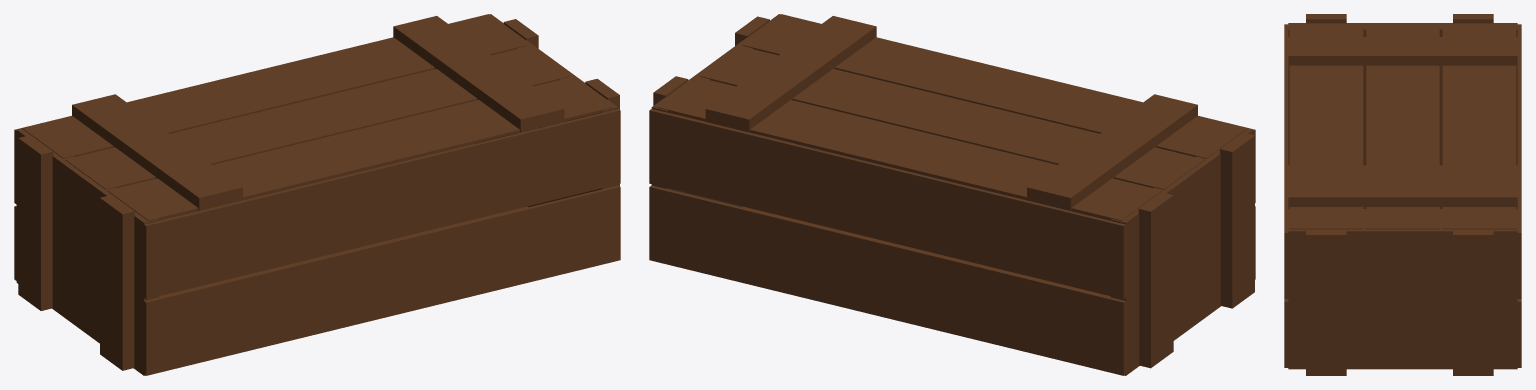
The model's file is Crate3.fbx.
The picture shows the model from 3 angles, left to right: view 1: azimuth 30°, elevation 25°; view 2: azimuth 150°, elevation 25°; view 3: azimuth 270°, elevation 25°; orthographic projection. The views are drawn at different scales.
Visible parts, largest first — view 1: Crate 3; view 2: Crate 3; view 3: Crate 3.
Boxes of the visible parts, left/top/right/bottom form: Crate 3: left=14, top=14, right=620, bottom=375; Crate 3: left=649, top=14, right=1255, bottom=375; Crate 3: left=1284, top=14, right=1521, bottom=375.
Bounding box in the file's own units: 101 × 32.25 × 46.36.
